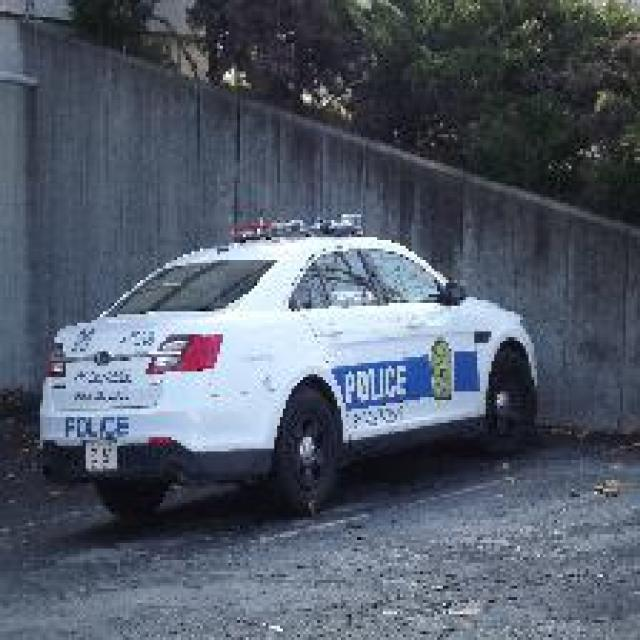emergency: (34, 208, 542, 520)
